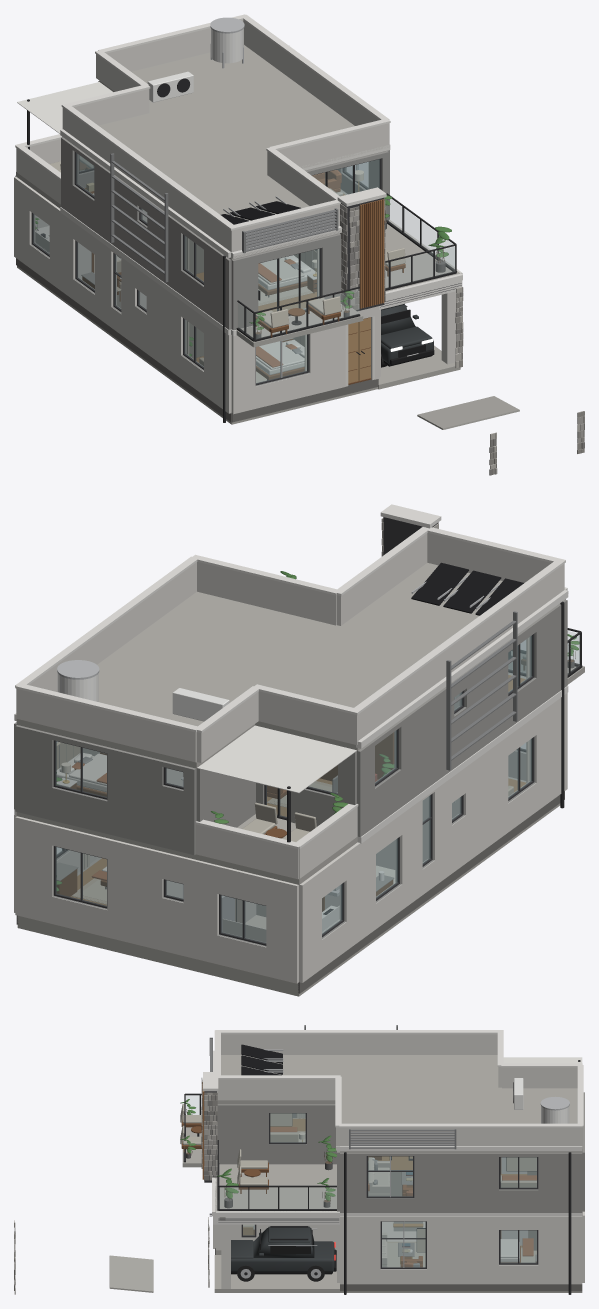
File: house-design.glb
3 views of the same model, one above another, from view 1: azimuth 30°, elevation 25°; view 2: azimuth 150°, elevation 25°; view 3: azimuth 270°, elevation 25° (orthographic). The views are drawn at different scales.
Parts seen in each view (by area): view 1: Roof_Main, GF_West, FF_West, GF_South, Roof_Rear, FF_South_BR, Parapet_West, Parapet_East, Glazing_Slider.001, Feature_Tower_Slats, Roof_Front, Parapet_Lounge_S (+38 smaller); view 2: Roof_Main, GF_North, GF_West, FF_West, FF_North, FF_Ceiling, Parapet_Rear_N, Parapet_West, Roof_Front, Parapet_Lounge_S, Parapet_East, NW_Terrace_N (+42 smaller); view 3: GF_East, Roof_Main, FF_East, FF_BR_East, Parapet_West, Slab_First, Parapet_East, Parapet_Front_E, Roof_Front, Porch_Slab, Glass_Win.008, Roof_Rear (+37 smaller).
Part boxes in pixels (x1,y1,x2,y2): Roof_Main: [98, 77, 387, 193]; GF_West: [14, 176, 231, 413]; FF_West: [61, 137, 231, 329]; GF_South: [231, 306, 379, 414]; Roof_Rear: [99, 45, 287, 110]; FF_South_BR: [231, 234, 341, 330]; Parapet_West: [63, 109, 231, 251]; Parapet_East: [243, 20, 379, 125]; Glazing_Slider.001: [258, 249, 319, 312]; Feature_Tower_Slats: [359, 199, 384, 308]; Roof_Front: [191, 175, 339, 259]; Parapet_Lounge_S: [277, 123, 389, 168]; Roof_Main: [97, 591, 433, 750]; GF_North: [15, 816, 298, 983]; GF_West: [299, 693, 567, 982]; FF_West: [357, 599, 567, 837]; FF_North: [15, 725, 196, 855]; FF_Ceiling: [197, 725, 356, 793]; Parapet_Rear_N: [16, 689, 196, 762]; Parapet_West: [357, 563, 564, 740]; Roof_Front: [341, 563, 502, 648]; Parapet_Lounge_S: [197, 562, 336, 625]; Parapet_East: [16, 562, 196, 714]; NW_Terrace_N: [195, 824, 298, 879]; GF_East: [340, 1216, 582, 1284]; Roof_Main: [340, 1055, 501, 1152]; FF_East: [340, 1152, 582, 1212]; FF_BR_East: [217, 1104, 336, 1164]; Parapet_West: [221, 1034, 497, 1054]; Slab_First: [215, 1118, 582, 1215]; Parapet_East: [340, 1127, 582, 1146]; Parapet_Front_E: [217, 1079, 335, 1100]; Roof_Front: [217, 1055, 339, 1104]; Porch_Slab: [214, 1255, 339, 1292]; Glass_Win.008: [382, 1221, 425, 1267]; Roof_Rear: [502, 1088, 582, 1152].
Bounding box in the file's own units: 10.05 × 8 × 23.38.
